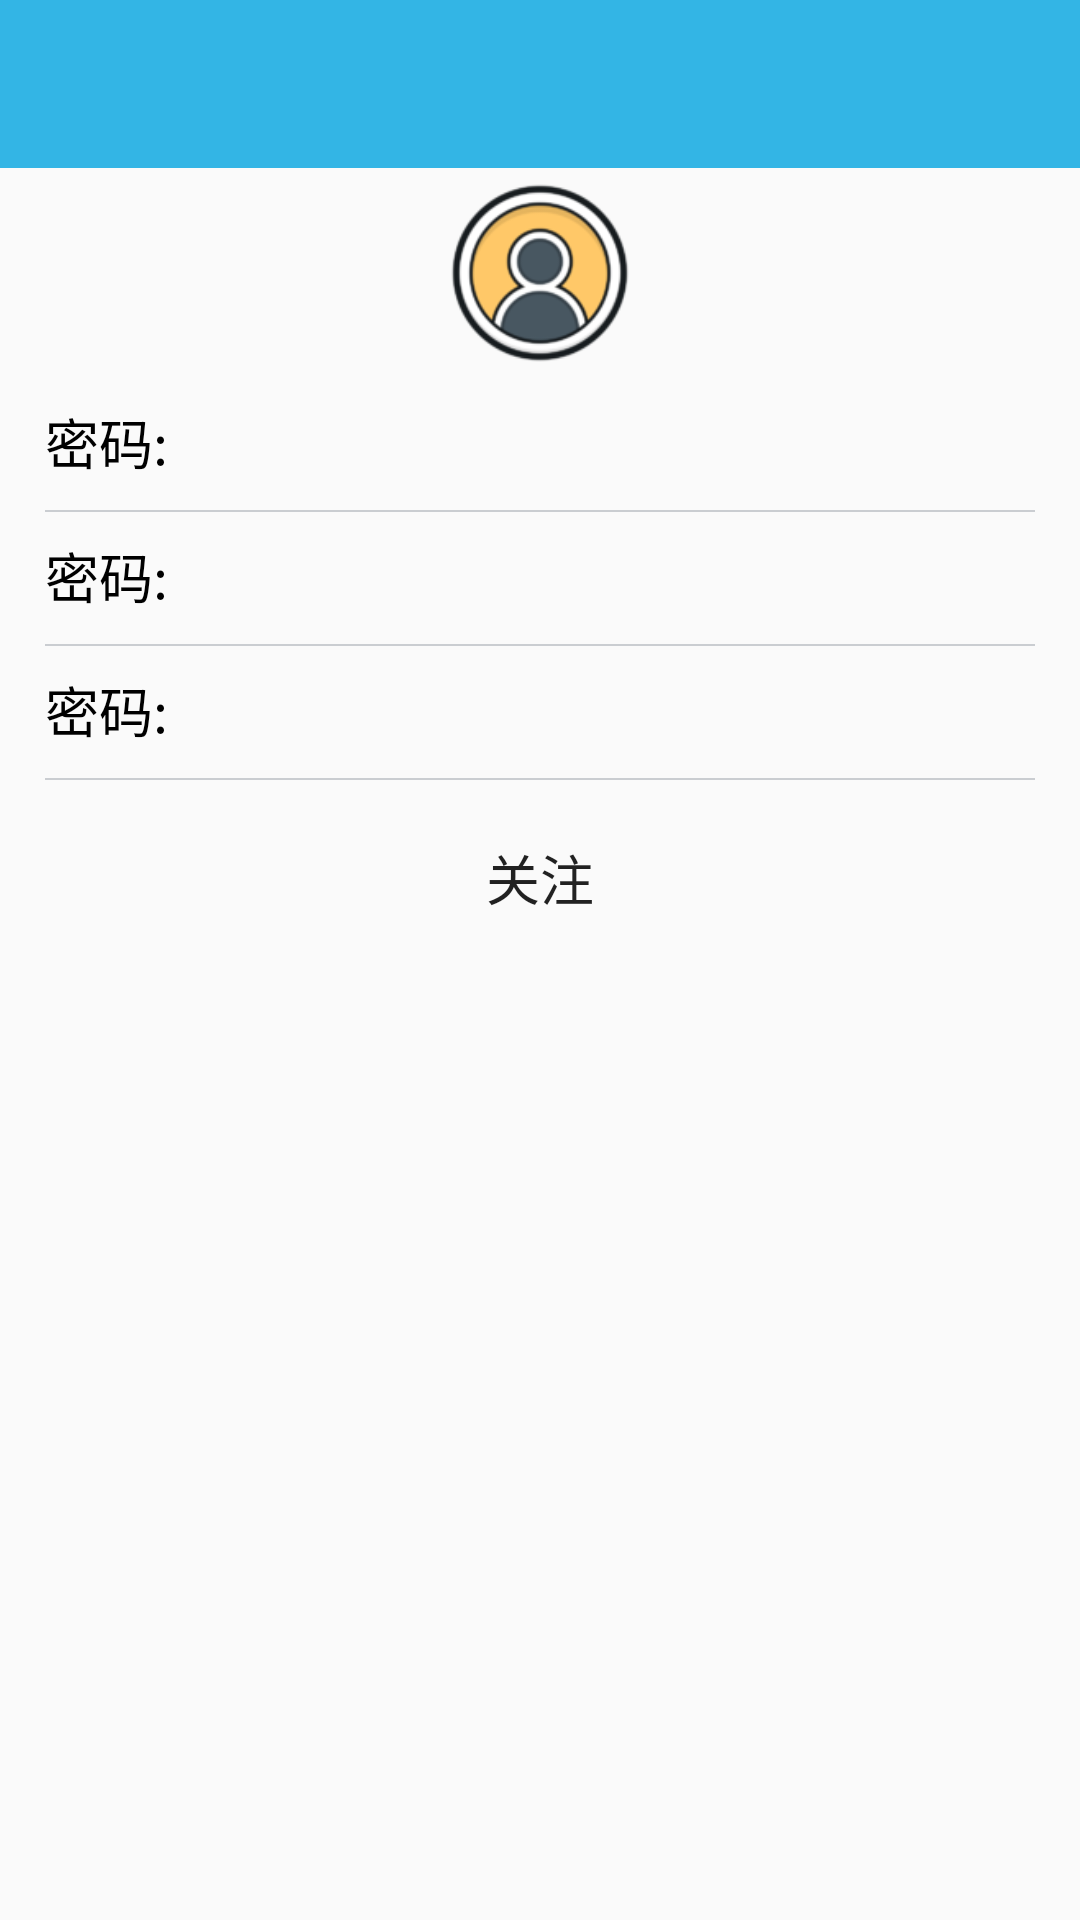

Point at icon controls on the screen. Image size 1080 x 1920, points as (x,y).
user login: (540,273)
